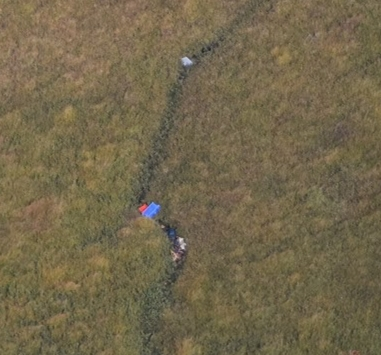together_barrel: (135, 195, 192, 260)
white_in_green: (161, 38, 213, 83)
